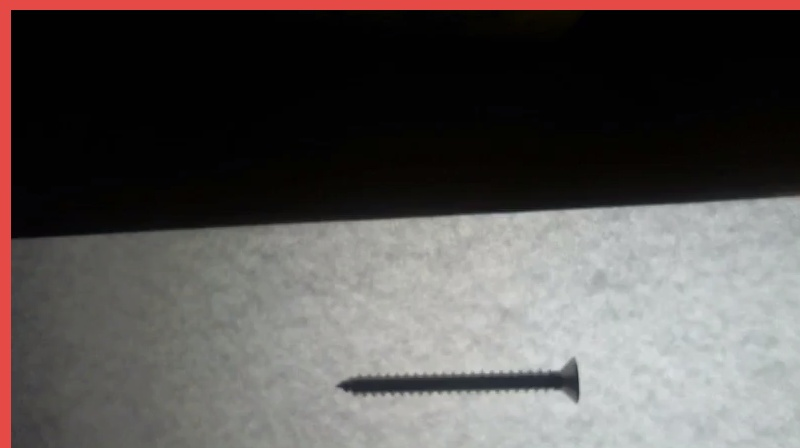S002: (331, 353, 583, 410)
